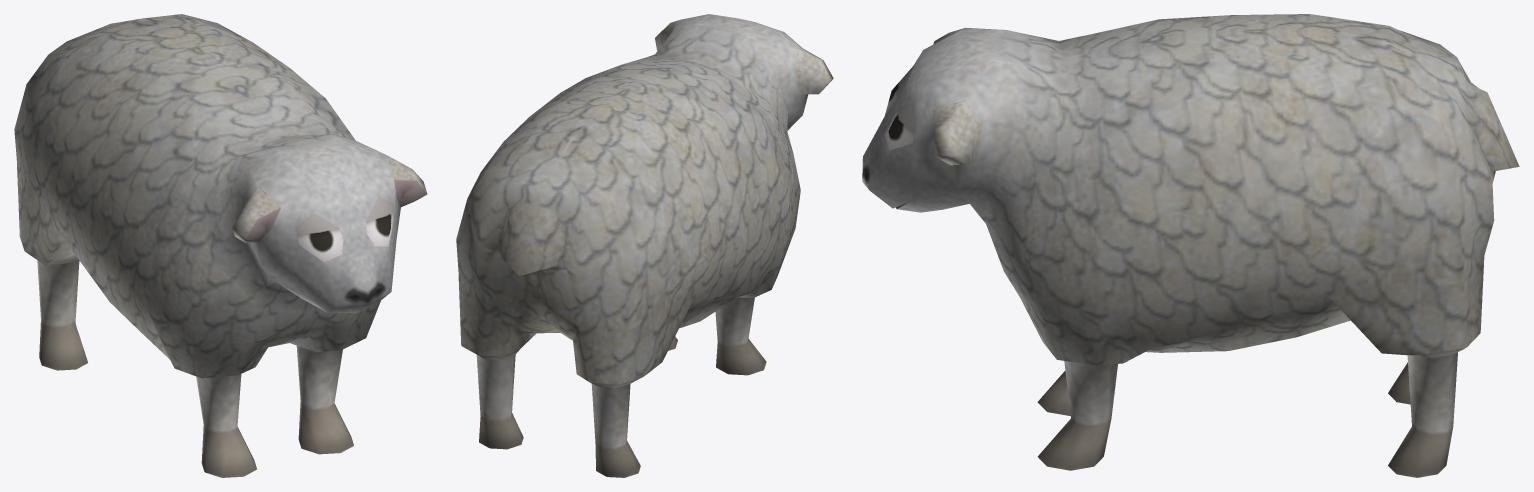
The model's file is normal_sheep_01.fbx.
3 views of the same model, side by side, from view 1: azimuth 30°, elevation 25°; view 2: azimuth 150°, elevation 25°; view 3: azimuth 270°, elevation 25° (orthographic). The views are drawn at different scales.
Parts seen in each view (by area): view 1: sheep_whole:polySurface190; view 2: sheep_whole:polySurface190; view 3: sheep_whole:polySurface190.
Boxes of the visible parts, x1,y1,x2,y2 form: sheep_whole:polySurface190: (14,14,427,477); sheep_whole:polySurface190: (456,14,833,477); sheep_whole:polySurface190: (862,14,1519,477).
Bounding box in the file's own units: 1.81 × 2.45 × 3.67.
1 material, 1 textured.
